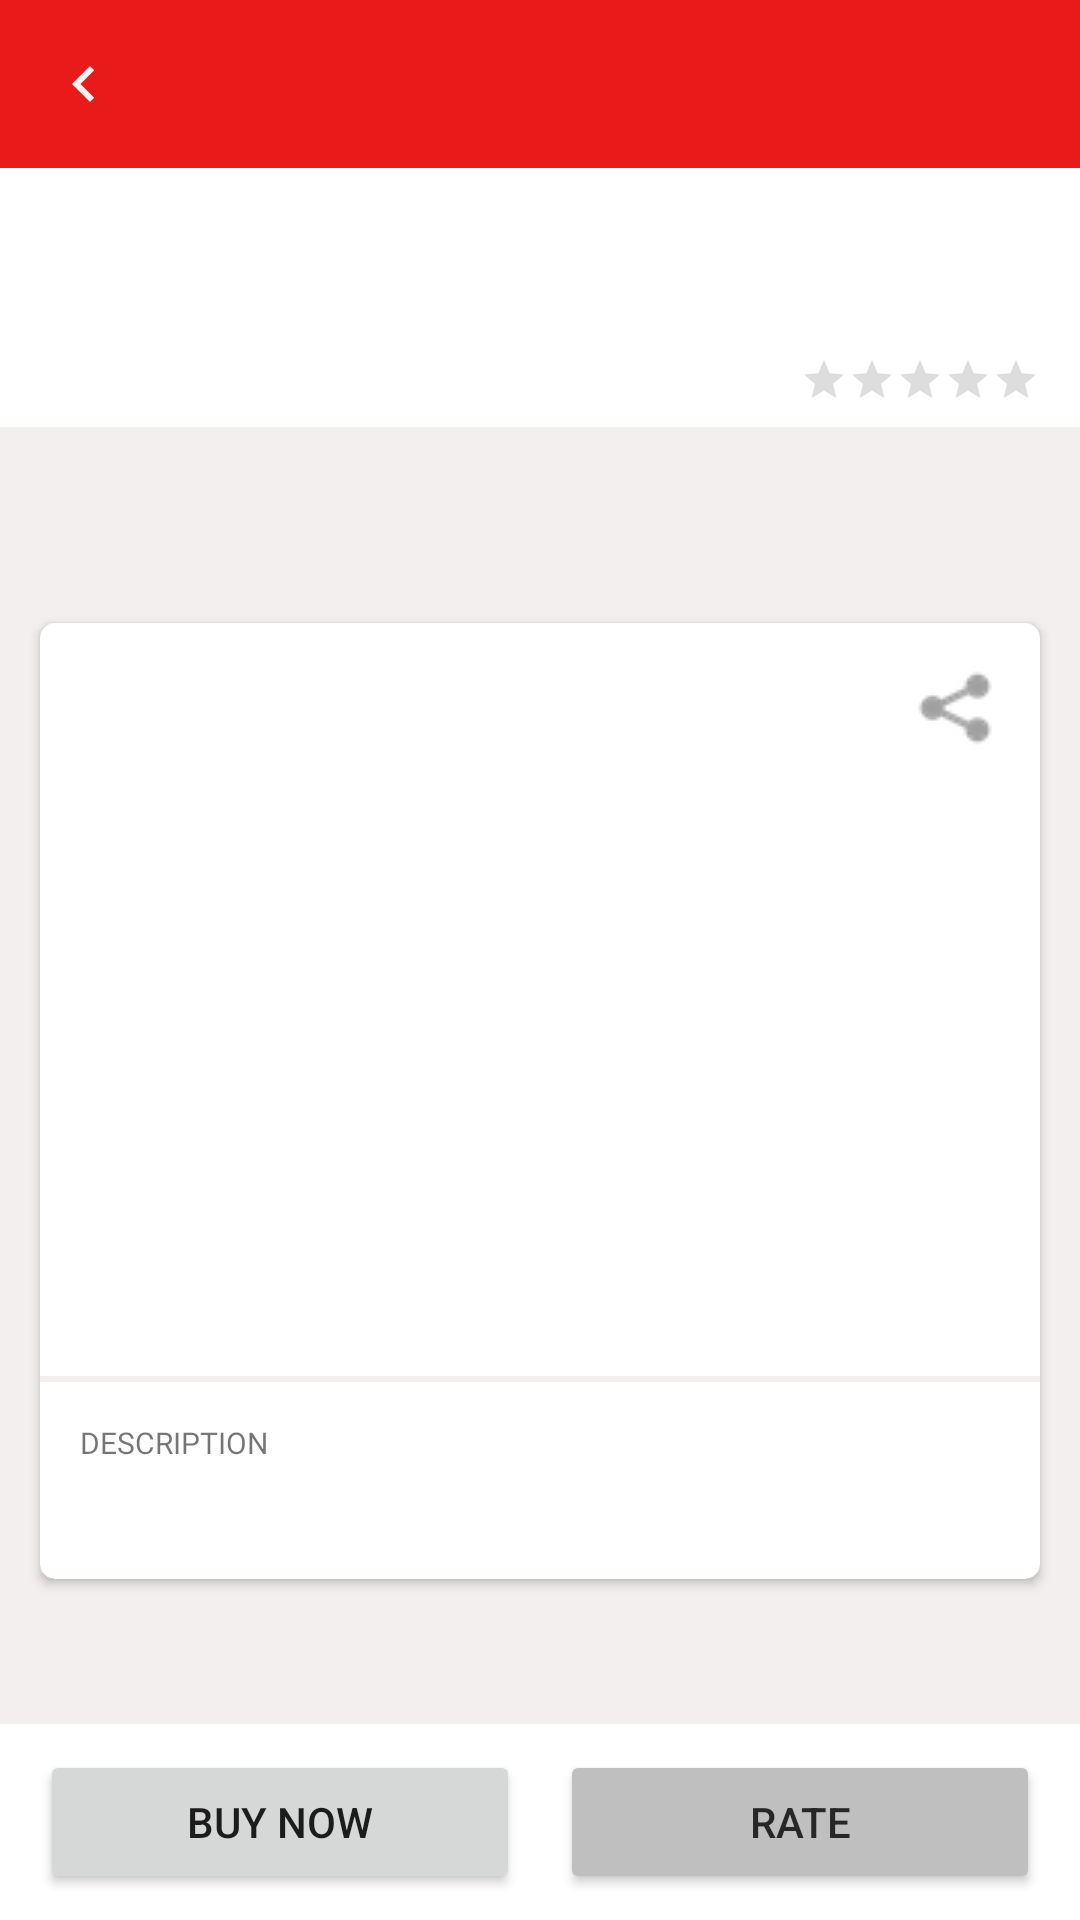

Named icons in this screenshot (1080x1920) and their centers, (x=x, y=y):
chevron left: (x=83, y=84)
share: (x=955, y=708)
